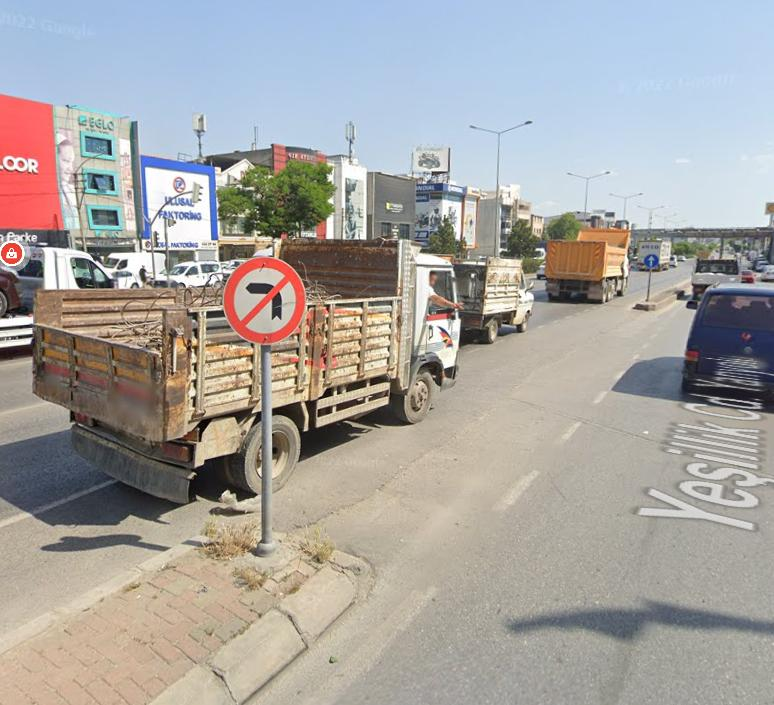leftturnsareforbidden: (227, 260, 302, 342)
